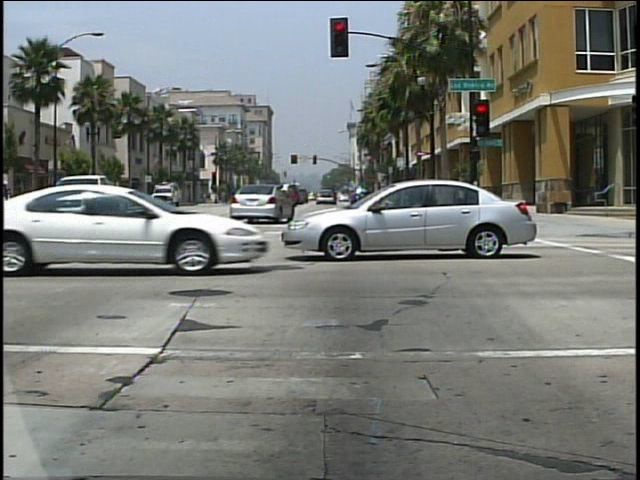person: (2, 177, 23, 232)
